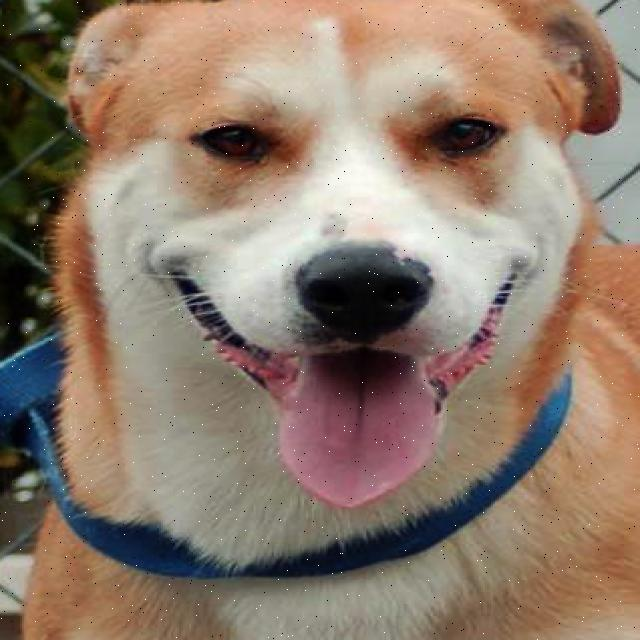Dog: (48, 0, 618, 513)
